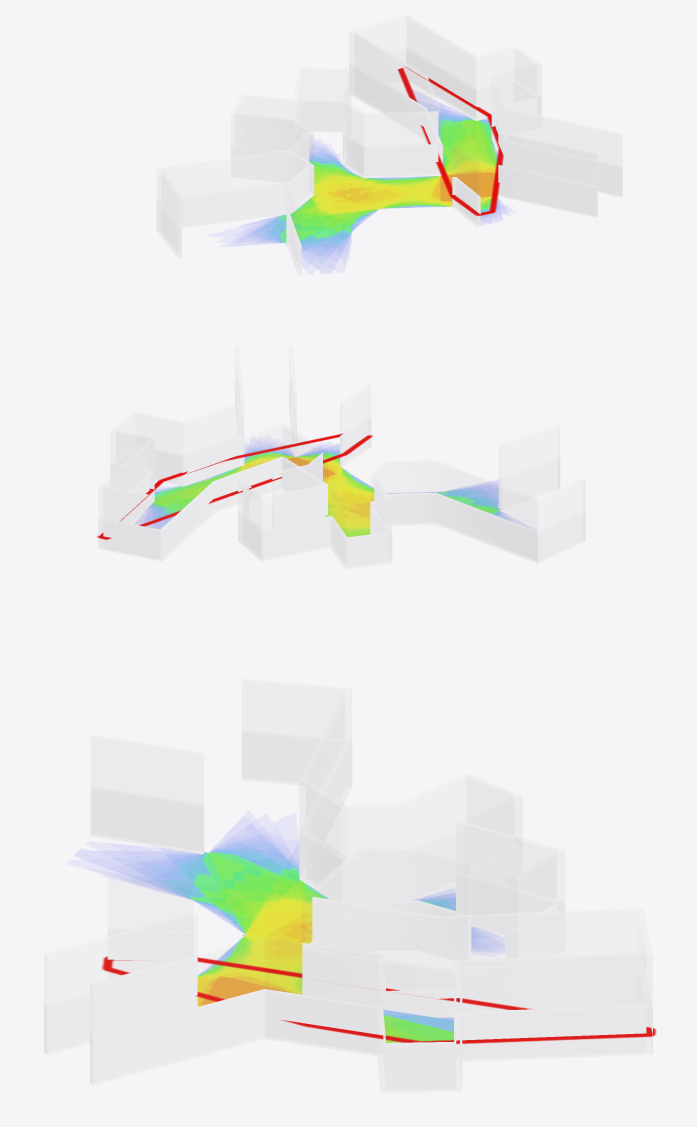
File: houseo.glb
3 views of the same model, one above another, from view 1: azimuth 30°, elevation 25°; view 2: azimuth 150°, elevation 25°; view 3: azimuth 270°, elevation 25° (orthographic). The views are drawn at different scales.
Parts seen in each view (by area): view 1: heatmap_1_houseo_color, heatmap_1_houseo_max2, Mesh_9, Mesh_8; view 2: heatmap_1_houseo_color, Mesh_9, heatmap_1_houseo_max2, Mesh_8; view 3: heatmap_1_houseo_color, Mesh_8, Mesh_9, heatmap_1_houseo_max2.
Boxes of the visible parts, <box> form: heatmap_1_houseo_color: <box>237,103,504,263</box>; heatmap_1_houseo_max2: <box>397,67,503,215</box>; Mesh_9: <box>346,32,536,133</box>; Mesh_8: <box>161,114,308,199</box>; heatmap_1_houseo_color: <box>144,444,511,536</box>; Mesh_9: <box>103,430,322,513</box>; heatmap_1_houseo_max2: <box>97,433,372,539</box>; Mesh_8: <box>243,476,387,525</box>; heatmap_1_houseo_color: <box>109,824,493,1042</box>; Mesh_8: <box>306,692,556,899</box>; Mesh_9: <box>302,897,645,1012</box>; heatmap_1_houseo_max2: <box>102,956,656,1043</box>.
Bounding box in the file's own units: 1.25 × 0.1642 × 1.
Materials: 12 (2 with a texture image).
